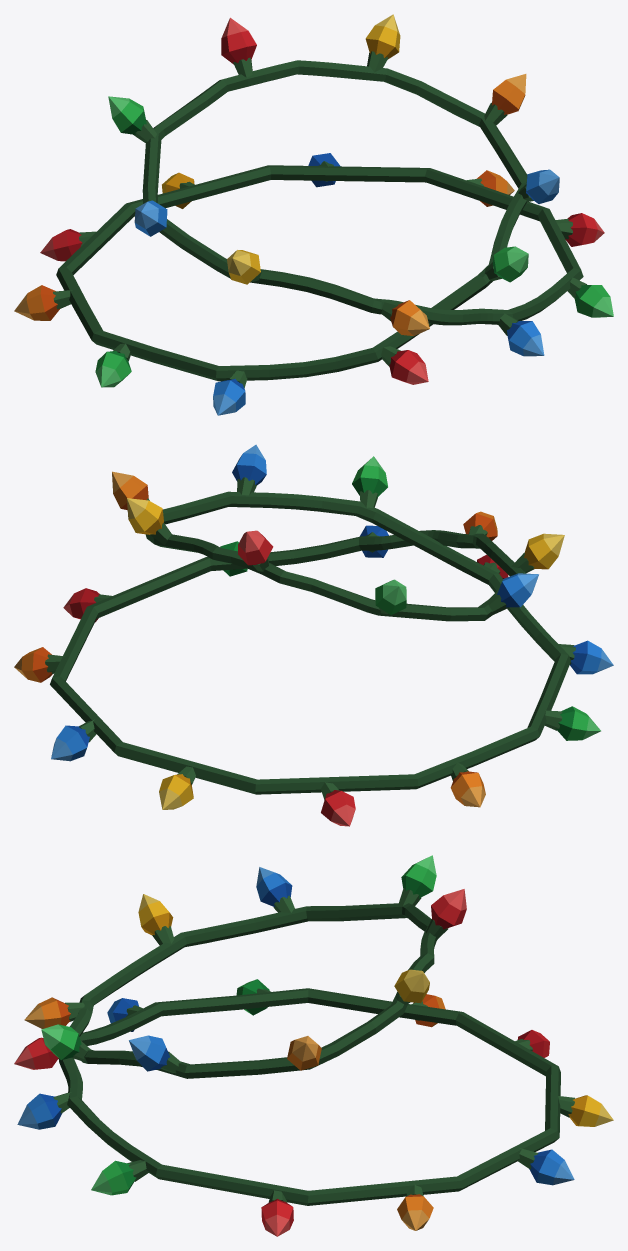
File: Cosmetic_Christmas_Lights.glb
3 renders of one model, top to bottom at view 1: azimuth 30°, elevation 25°; view 2: azimuth 150°, elevation 25°; view 3: azimuth 270°, elevation 25°, orthographic.
Parts seen in each view (by area): view 1: Cosmetic_Christmas_Lights; view 2: Cosmetic_Christmas_Lights; view 3: Cosmetic_Christmas_Lights.
Part boxes in pixels (x1=…): Cosmetic_Christmas_Lights: x1=14, y1=14, x2=613, y2=415; Cosmetic_Christmas_Lights: x1=14, y1=444, x2=613, y2=826; Cosmetic_Christmas_Lights: x1=14, y1=855, x2=613, y2=1236.
Bounding box in the file's own units: 1.5 × 0.6495 × 1.5.
